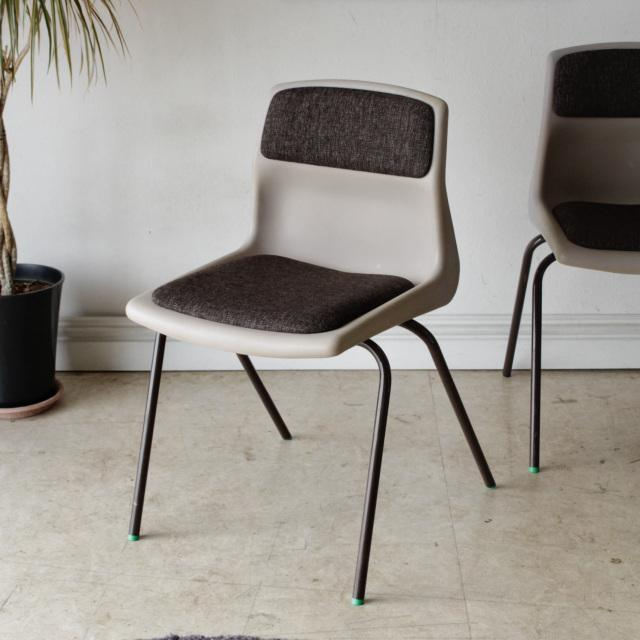chair vintage: (107, 74, 499, 608)
